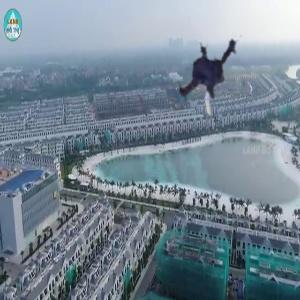drone: (157, 28, 261, 132)
